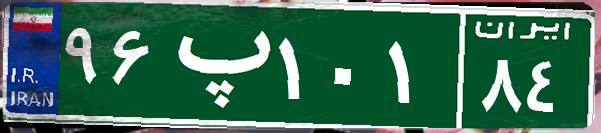0: (330, 28, 385, 110)
1: (385, 28, 445, 110), (273, 28, 330, 110)
4: (525, 38, 570, 115)
6: (110, 28, 158, 105)
8: (475, 38, 525, 113)
9: (57, 26, 110, 107)
پ: (158, 15, 273, 115)
